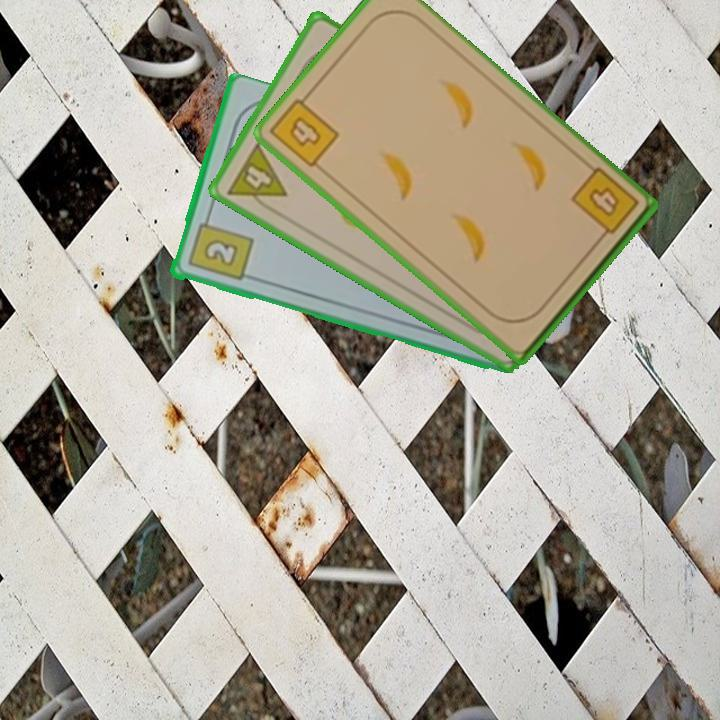2b: (184, 211, 255, 284)
4b: (567, 164, 642, 247), (267, 89, 342, 171)
4p: (223, 138, 290, 217)
